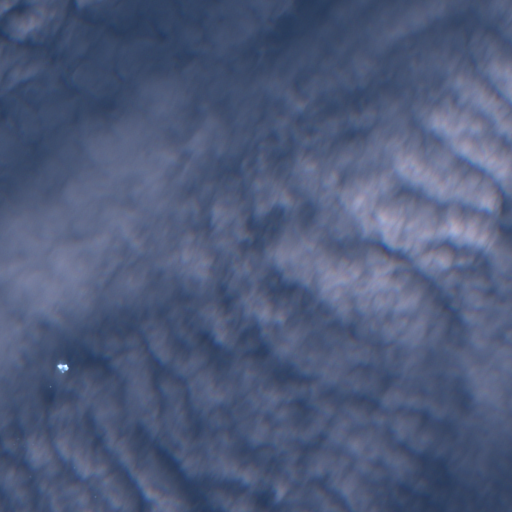Iceberg: (57, 364, 68, 372)
